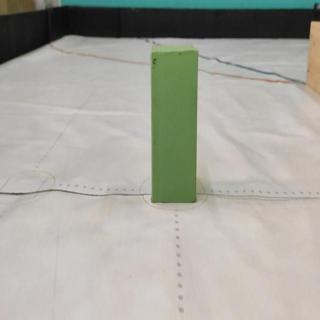greenbox: (151, 44, 198, 203)
